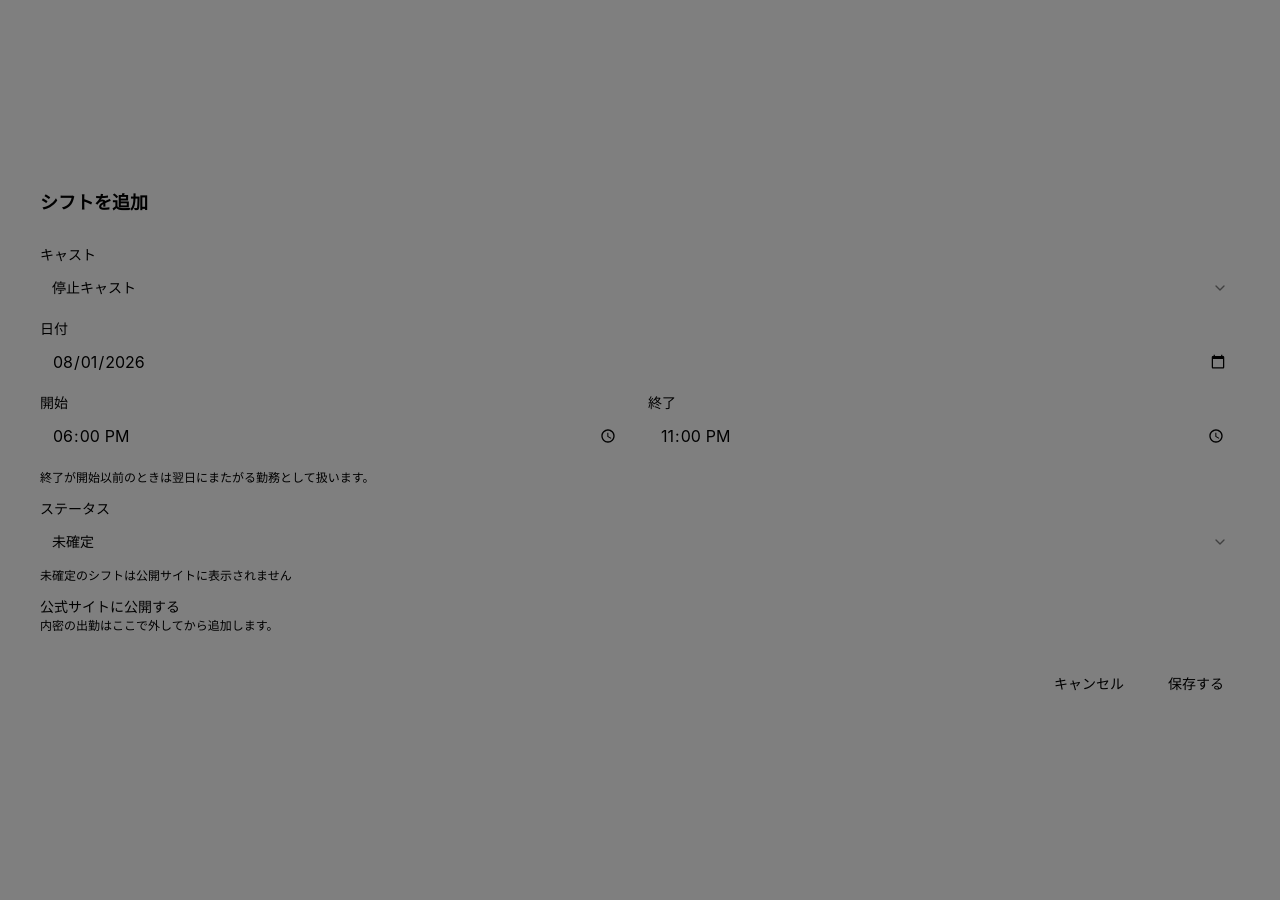
Test case: シフトフォームのセレクト配線と送信ペイロード › 新規作成では退店済みを候補と既定値から除き、停止中を選べること
Click the dropdown labelled "停止キャスト" at (94, 288), box top-left (40, 270), bottom-right (1240, 306)
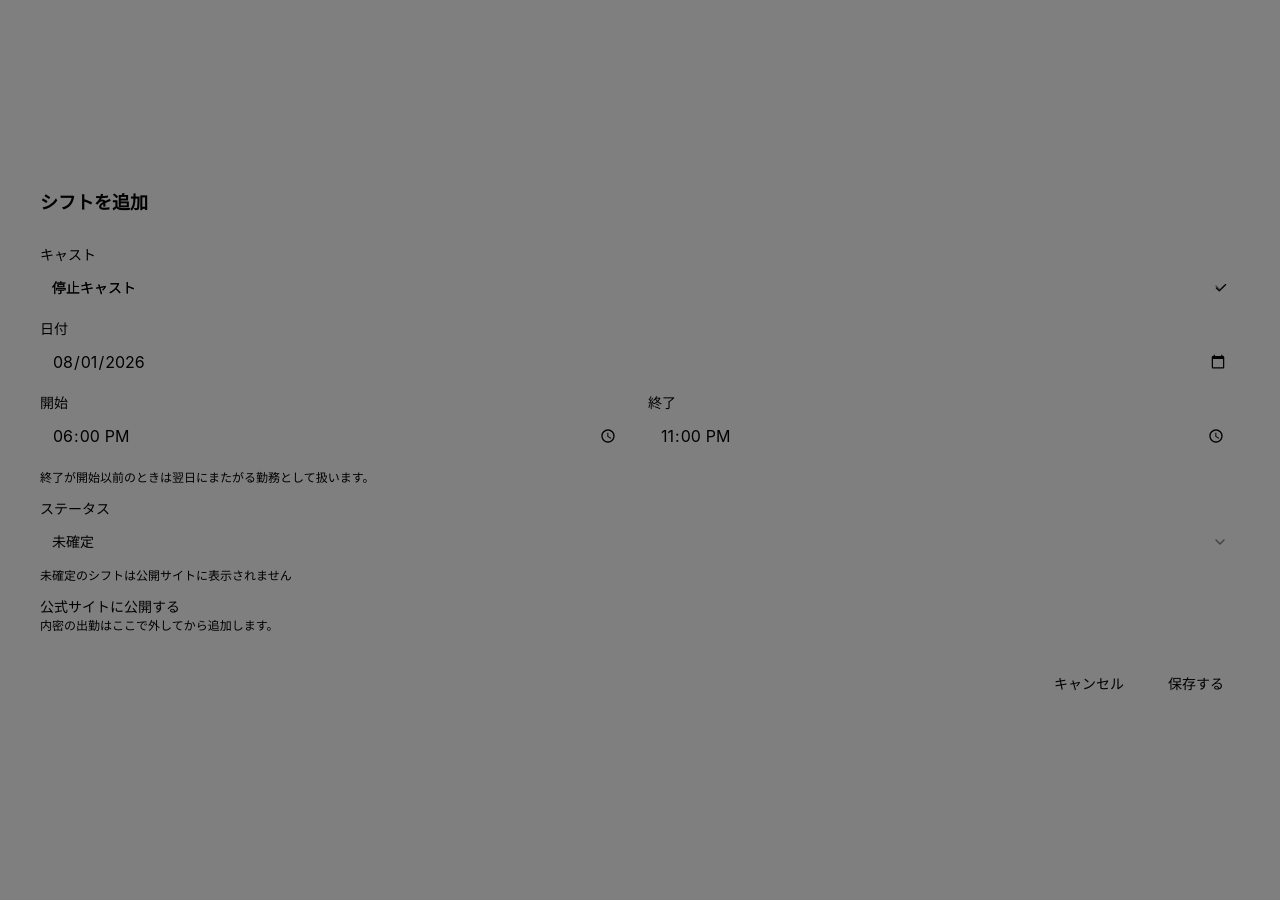
Now the option "停止キャスト" is shown, box top-left (52, 279), bottom-right (1228, 296)
